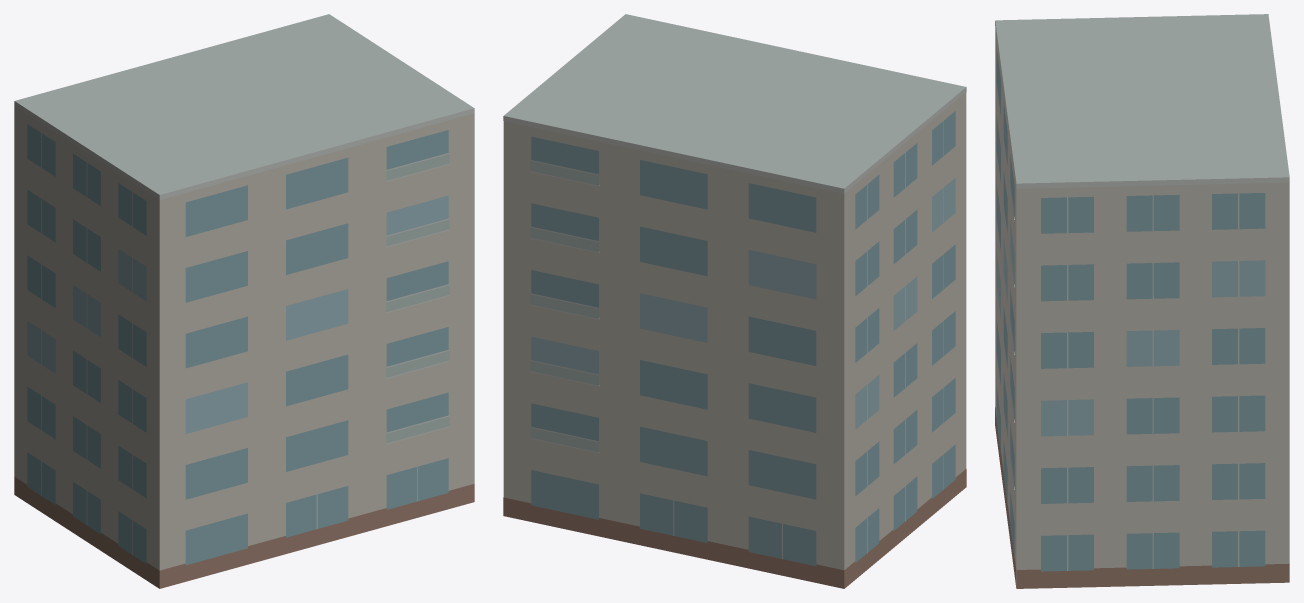
Rendered from survey-upis-32696742.glb.
The picture shows the model from 3 angles, left to right: view 1: azimuth 30°, elevation 25°; view 2: azimuth 150°, elevation 25°; view 3: azimuth 270°, elevation 25°; orthographic projection. The views are drawn at different scales.
Visible parts, largest first — view 1: survey-upis-32696742.tmp; view 2: survey-upis-32696742.tmp; view 3: survey-upis-32696742.tmp.
Part boxes in pixels (<box>): survey-upis-32696742.tmp: <box>14,14,474,588</box>; survey-upis-32696742.tmp: <box>503,14,966,588</box>; survey-upis-32696742.tmp: <box>995,14,1289,588</box>.
Bounding box in the file's own units: 16.79 × 18.7 × 12.33.
